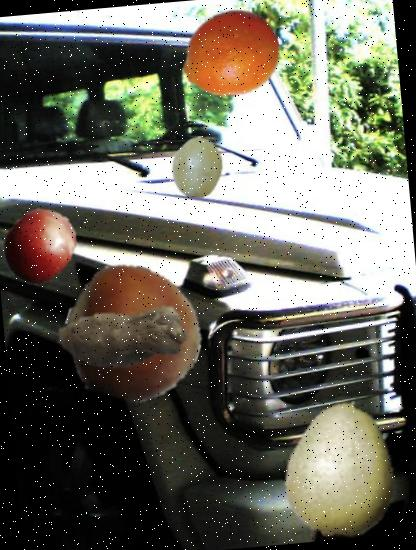Apple: (0, 203, 83, 289)
Clementine: (291, 436, 384, 529)
Ginger: (52, 265, 196, 410)
Grape: (165, 134, 231, 200)
Nut: (59, 260, 209, 410)
Pear: (267, 394, 416, 544)
Tangelo: (176, 1, 284, 108)
